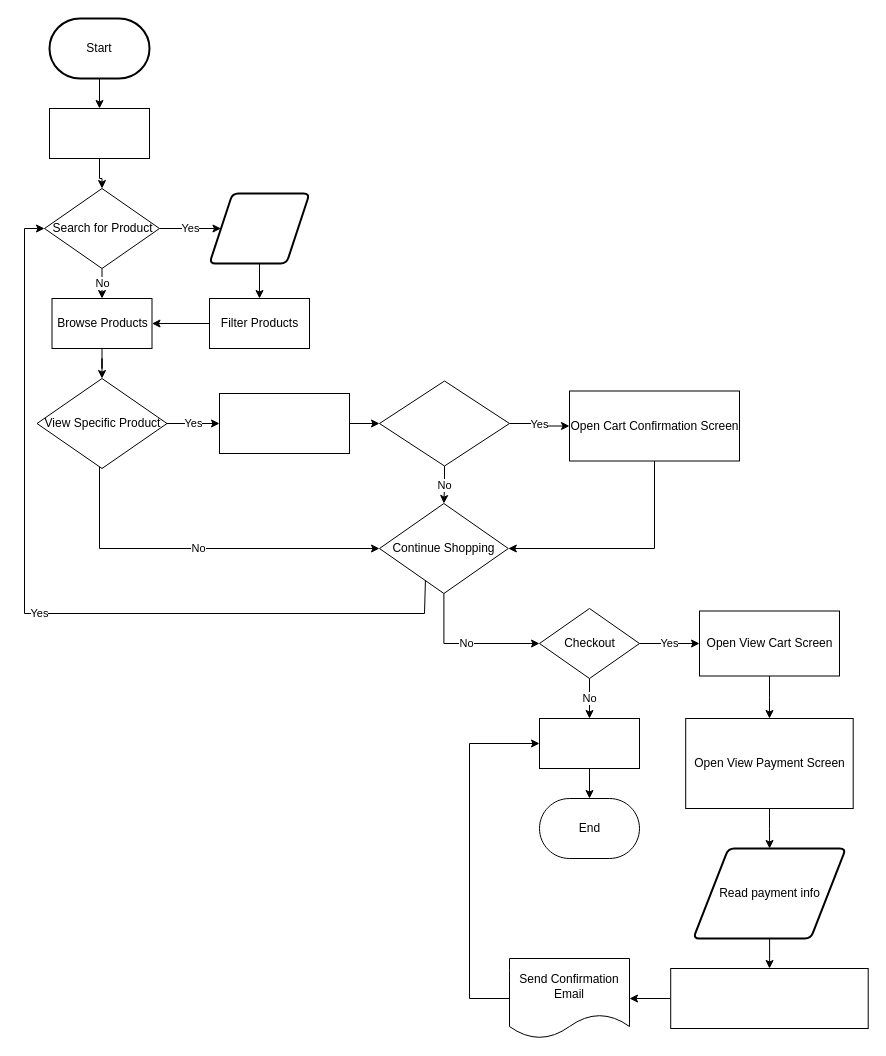
This 886x1056 diagram has some shape labels left out. Each missing label, with the box of its shape:
Add Product to Cart: (378, 380, 510, 466)
Close Website: (538, 718, 640, 768)
Open Order Confirmation Screen: (670, 968, 868, 1028)
Open Product Webpage: (218, 392, 350, 454)
Open Website: (48, 108, 150, 158)
Read Search Input: (208, 192, 310, 264)
